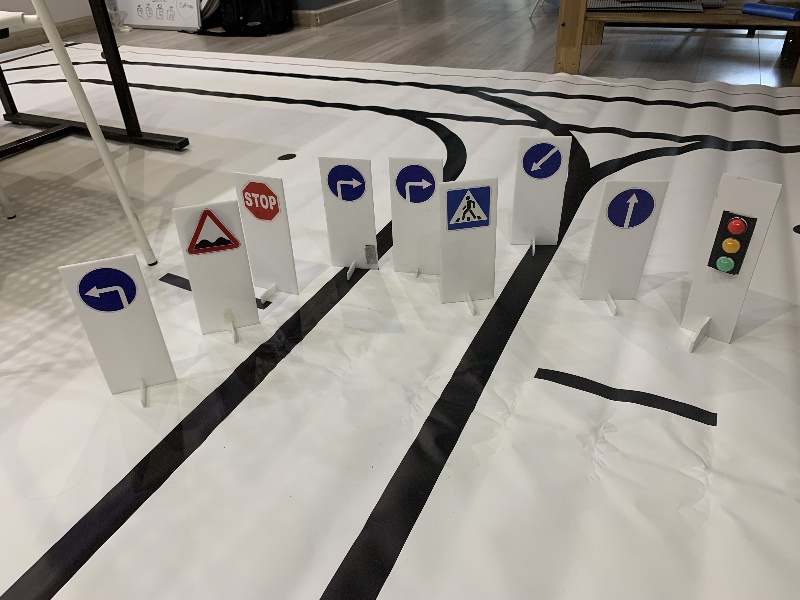Left: (74, 266, 139, 314)
Nerov: (189, 208, 240, 259)
Right: (395, 163, 435, 204), (326, 165, 364, 203)
Stop: (238, 182, 279, 223)
forw: (605, 188, 656, 230)
pesh: (446, 188, 493, 231)
prep: (523, 143, 562, 179)
